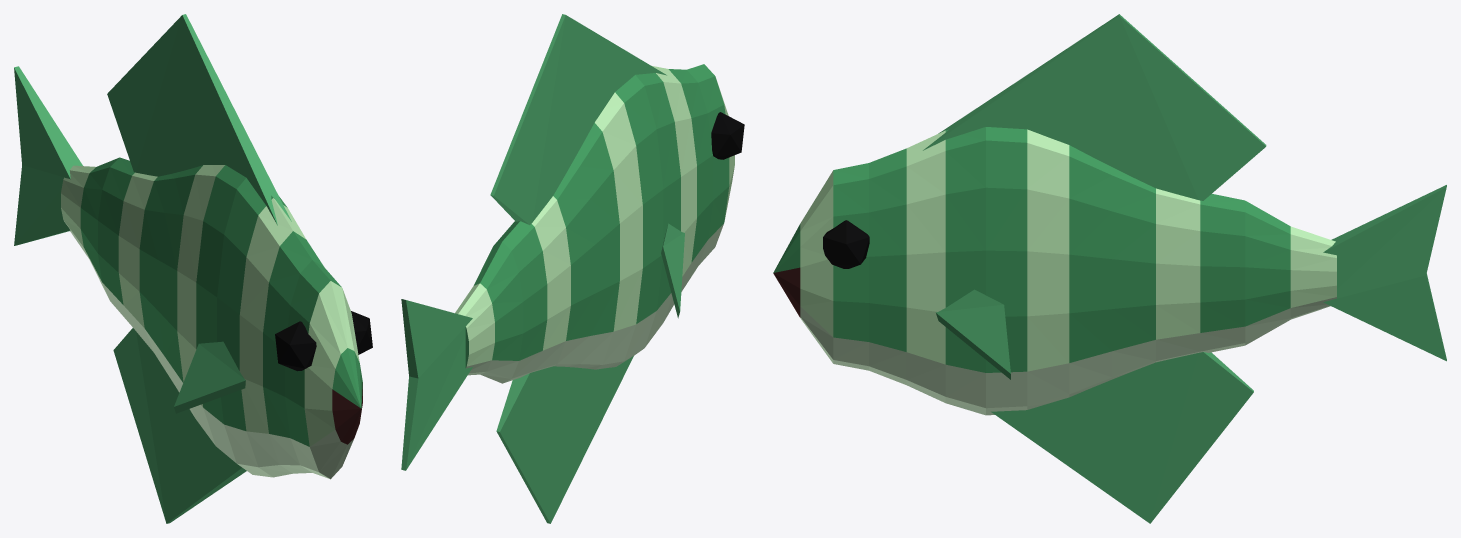
File: FoeHealer.obj
3 renders of one model, left to right at view 1: azimuth 30°, elevation 25°; view 2: azimuth 150°, elevation 25°; view 3: azimuth 270°, elevation 25°, orthographic. The views are drawn at different scales.
Parts seen in each view (by area): view 1: FoeHealer; view 2: FoeHealer; view 3: FoeHealer.
Part boxes in pixels (box(x1,y1,x2,y2)): FoeHealer: box(14, 14, 372, 523); FoeHealer: box(401, 14, 744, 523); FoeHealer: box(773, 14, 1446, 523).
Bounding box in the file's own units: 0.2158 × 0.8158 × 0.98.
